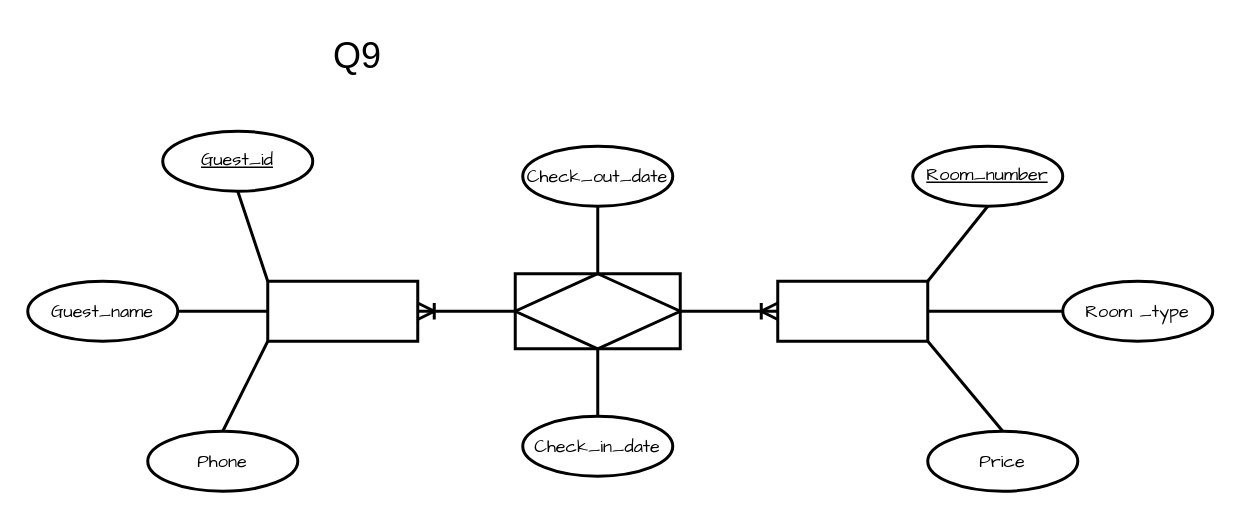
Some shapes in this 1239 by 518 pixel diagram are drawn without their labels. Here are the shapes that lost their labels. From the top down, the centre of each, then its label:
pixel 342 310: Guest
pixel 597 311: Book
pixel 852 310: Room
